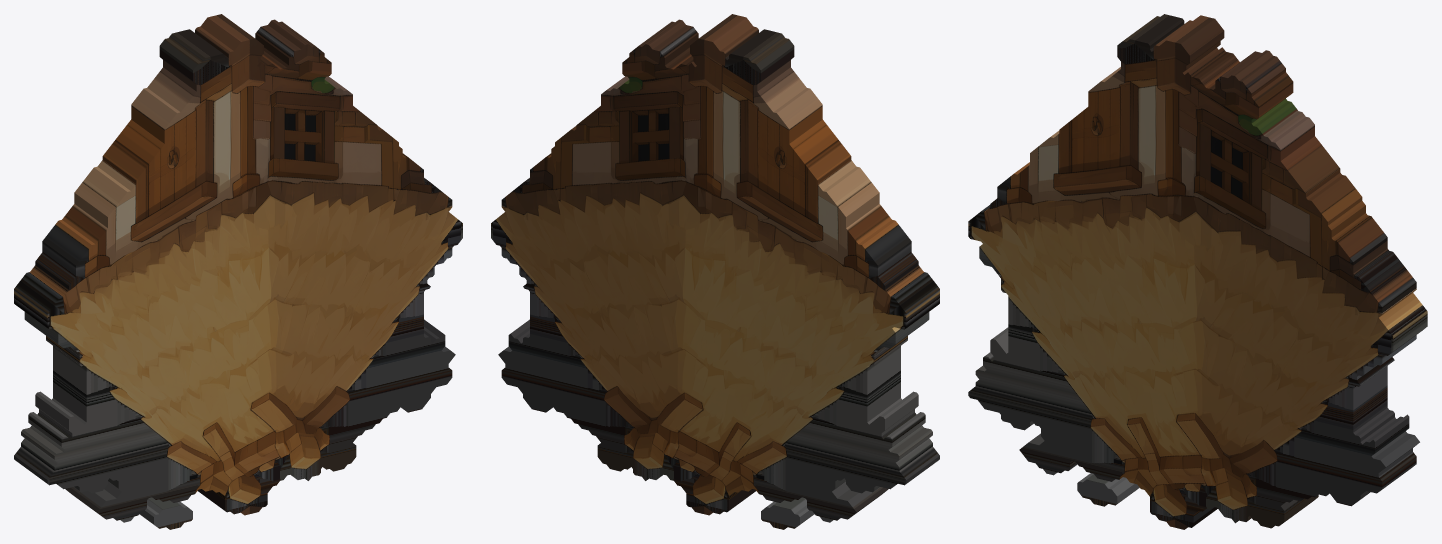
File: hut.glb
3 renders of one model, left to right at view 1: azimuth 30°, elevation 25°; view 2: azimuth 150°, elevation 25°; view 3: azimuth 330°, elevation 25°, orthographic. The views are drawn at different scales.
Parts seen in each view (by area): view 1: world; view 2: world; view 3: world.
Part boxes in pixels (<box>): world: <box>14,14,462,529</box>; world: <box>491,14,939,529</box>; world: <box>968,14,1427,529</box>.
Bounding box in the file's own units: 3.85 × 4.2 × 0.5389.
1 material, 1 textured.
